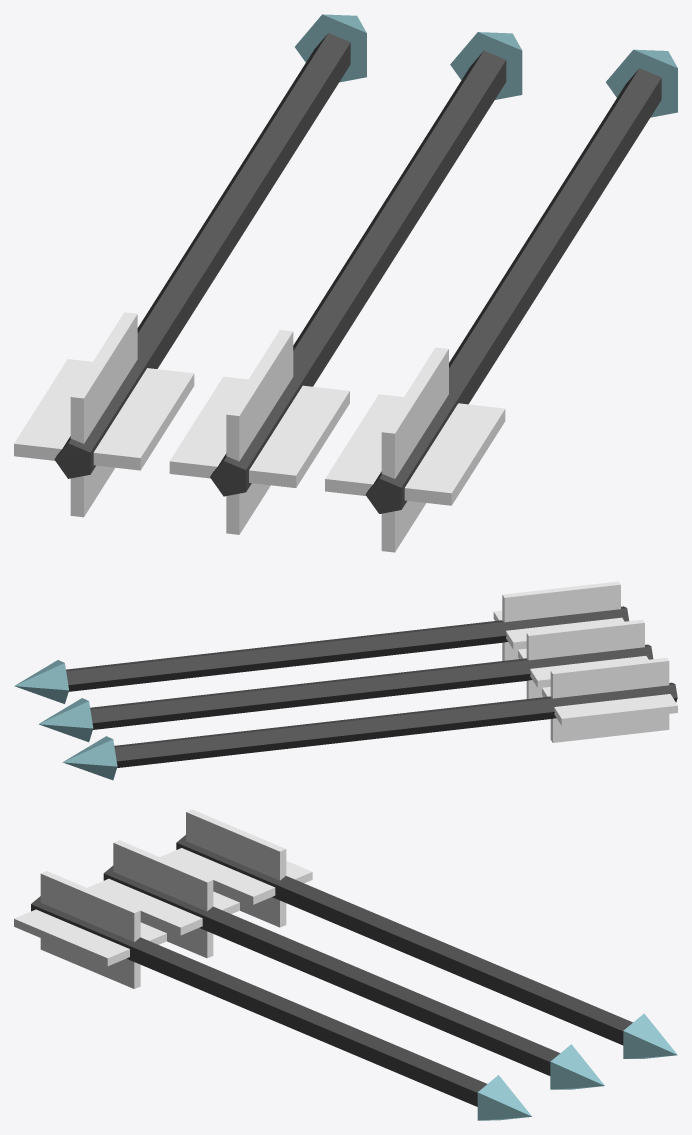
Rendered from ce_ammo2_great_plasteel_b.obj.
The picture shows the model from 3 angles, top to bottom: view 1: azimuth 30°, elevation 25°; view 2: azimuth 150°, elevation 25°; view 3: azimuth 270°, elevation 25°; orthographic projection. The views are drawn at different scales.
Visible parts, largest first — view 1: ce_ammo2_great_plasteel_b_4, ce_ammo2_great_plasteel_b_0, ce_ammo2_great_plasteel_b_8, ce_ammo2_great_plasteel_b_6, ce_ammo2_great_plasteel_b_2, ce_ammo2_great_plasteel_b_10, ce_ammo2_great_plasteel_b_3, ce_ammo2_great_plasteel_b_11, ce_ammo2_great_plasteel_b_7, ce_ammo2_great_plasteel_b_5, ce_ammo2_great_plasteel_b_1, ce_ammo2_great_plasteel_b_9; view 2: ce_ammo2_great_plasteel_b_0, ce_ammo2_great_plasteel_b_4, ce_ammo2_great_plasteel_b_8, ce_ammo2_great_plasteel_b_3, ce_ammo2_great_plasteel_b_11, ce_ammo2_great_plasteel_b_7, ce_ammo2_great_plasteel_b_2, ce_ammo2_great_plasteel_b_1, ce_ammo2_great_plasteel_b_5, ce_ammo2_great_plasteel_b_9, ce_ammo2_great_plasteel_b_10, ce_ammo2_great_plasteel_b_6; view 3: ce_ammo2_great_plasteel_b_4, ce_ammo2_great_plasteel_b_0, ce_ammo2_great_plasteel_b_8, ce_ammo2_great_plasteel_b_11, ce_ammo2_great_plasteel_b_3, ce_ammo2_great_plasteel_b_7, ce_ammo2_great_plasteel_b_10, ce_ammo2_great_plasteel_b_2, ce_ammo2_great_plasteel_b_6, ce_ammo2_great_plasteel_b_9, ce_ammo2_great_plasteel_b_5, ce_ammo2_great_plasteel_b_1.
Boxes of the visible parts, <box> form: ce_ammo2_great_plasteel_b_4: <box>210,50,506,496</box>; ce_ammo2_great_plasteel_b_0: <box>54,33,350,478</box>; ce_ammo2_great_plasteel_b_8: <box>365,68,661,513</box>; ce_ammo2_great_plasteel_b_6: <box>169,376,349,487</box>; ce_ammo2_great_plasteel_b_2: <box>14,359,194,470</box>; ce_ammo2_great_plasteel_b_10: <box>325,394,505,505</box>; ce_ammo2_great_plasteel_b_3: <box>70,312,137,517</box>; ce_ammo2_great_plasteel_b_11: <box>381,347,448,552</box>; ce_ammo2_great_plasteel_b_7: <box>226,330,293,534</box>; ce_ammo2_great_plasteel_b_5: <box>450,32,522,99</box>; ce_ammo2_great_plasteel_b_1: <box>295,14,366,82</box>; ce_ammo2_great_plasteel_b_9: <box>606,49,677,117</box>; ce_ammo2_great_plasteel_b_0: <box>114,682,677,767</box>; ce_ammo2_great_plasteel_b_4: <box>90,644,653,729</box>; ce_ammo2_great_plasteel_b_8: <box>66,606,628,691</box>; ce_ammo2_great_plasteel_b_3: <box>550,657,669,742</box>; ce_ammo2_great_plasteel_b_11: <box>502,581,620,660</box>; ce_ammo2_great_plasteel_b_7: <box>526,619,644,698</box>; ce_ammo2_great_plasteel_b_2: <box>542,687,677,725</box>; ce_ammo2_great_plasteel_b_1: <box>62,736,117,780</box>; ce_ammo2_great_plasteel_b_5: <box>38,698,93,742</box>; ce_ammo2_great_plasteel_b_9: <box>14,660,69,703</box>; ce_ammo2_great_plasteel_b_10: <box>493,610,624,649</box>; ce_ammo2_great_plasteel_b_6: <box>518,648,648,687</box>; ce_ammo2_great_plasteel_b_4: <box>103,865,560,1075</box>; ce_ammo2_great_plasteel_b_0: <box>176,835,632,1045</box>; ce_ammo2_great_plasteel_b_8: <box>31,896,486,1106</box>; ce_ammo2_great_plasteel_b_11: <box>40,871,140,988</box>; ce_ammo2_great_plasteel_b_3: <box>186,809,286,927</box>; ce_ammo2_great_plasteel_b_7: <box>113,840,213,958</box>; ce_ammo2_great_plasteel_b_10: <box>14,909,166,966</box>; ce_ammo2_great_plasteel_b_2: <box>160,848,312,904</box>; ce_ammo2_great_plasteel_b_6: <box>87,878,239,935</box>; ce_ammo2_great_plasteel_b_9: <box>477,1075,531,1120</box>; ce_ammo2_great_plasteel_b_5: <box>550,1044,604,1089</box>; ce_ammo2_great_plasteel_b_1: <box>623,1013,677,1058</box>.
Size of the model in its own units: 0.903 by 0.114 by 0.903.
